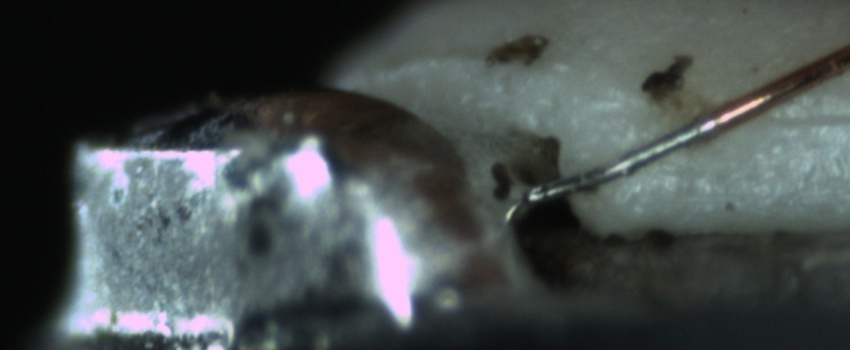DL: (763, 84, 850, 150)
TS: (519, 117, 722, 210)
